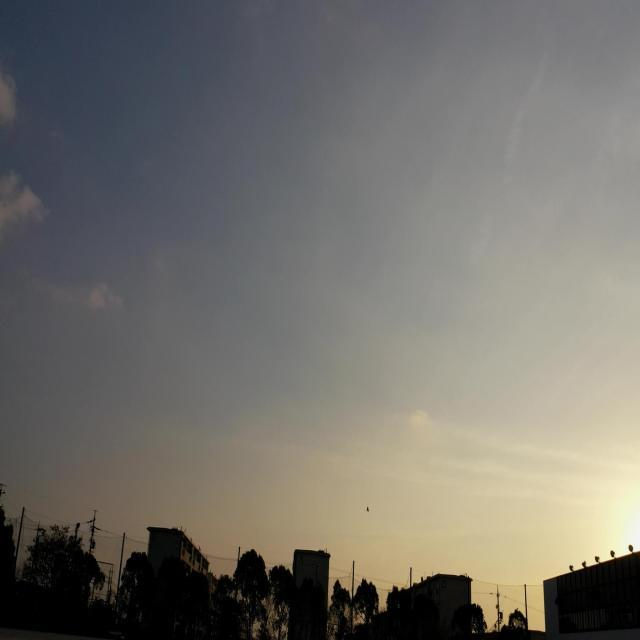Birds: (362, 502, 372, 516)
